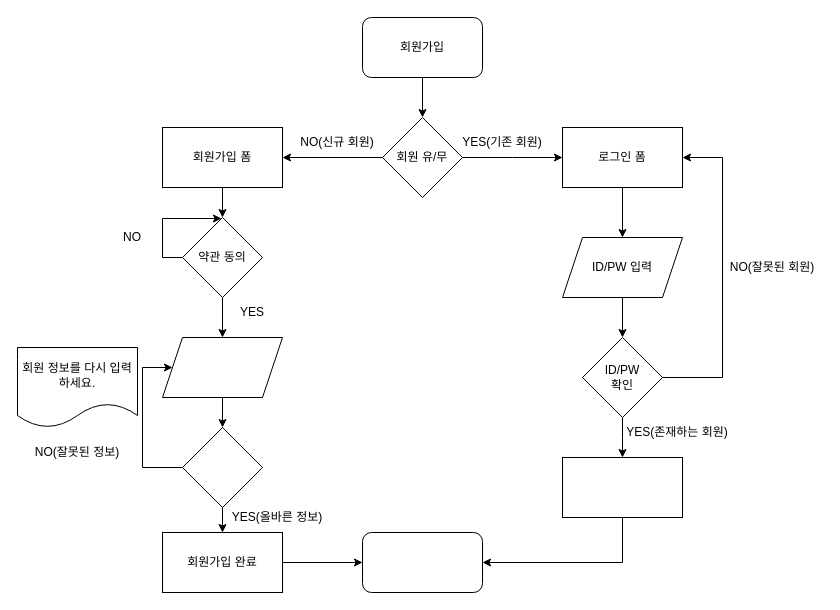
Some shapes in this 840 by 610 pixel diagram are drawn without their labels. Each missing label, with the centre of its shape:
"로그인 완료" goes at (622,487).
"메인화면" goes at (422,562).
"회원 정보 입력" goes at (222,367).
"회원 정보 확인" goes at (222,467).
